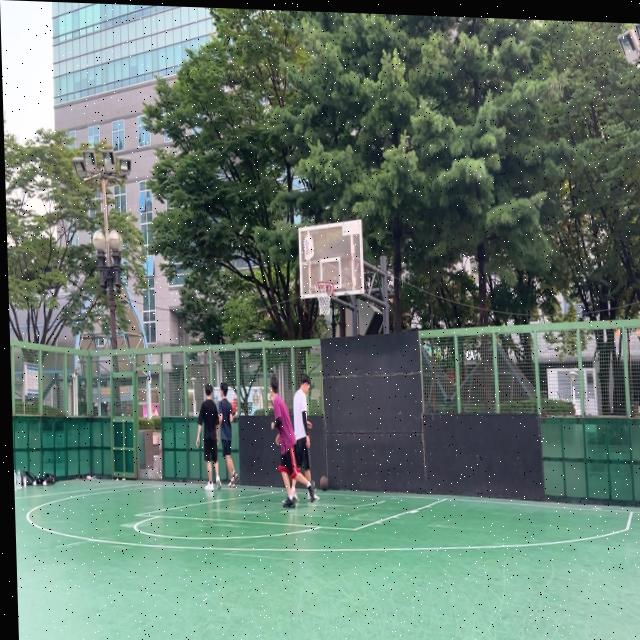basketball: (230, 402, 236, 416)
hoop: (314, 281, 335, 316)
